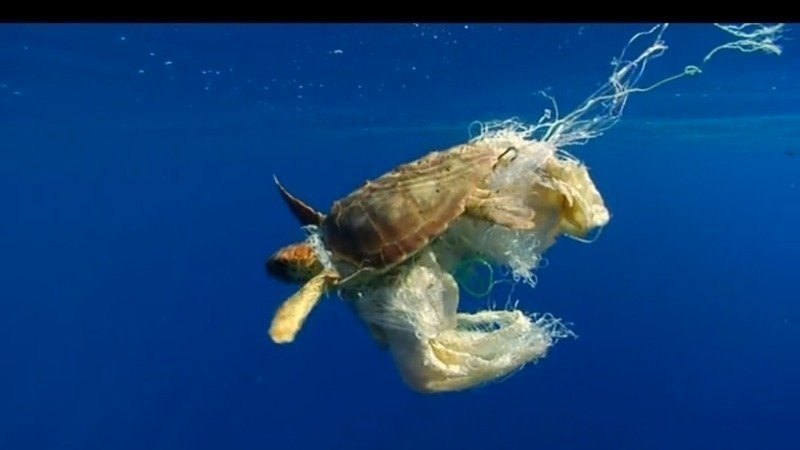fish: (205, 126, 636, 343)
litter: (337, 266, 579, 396)
